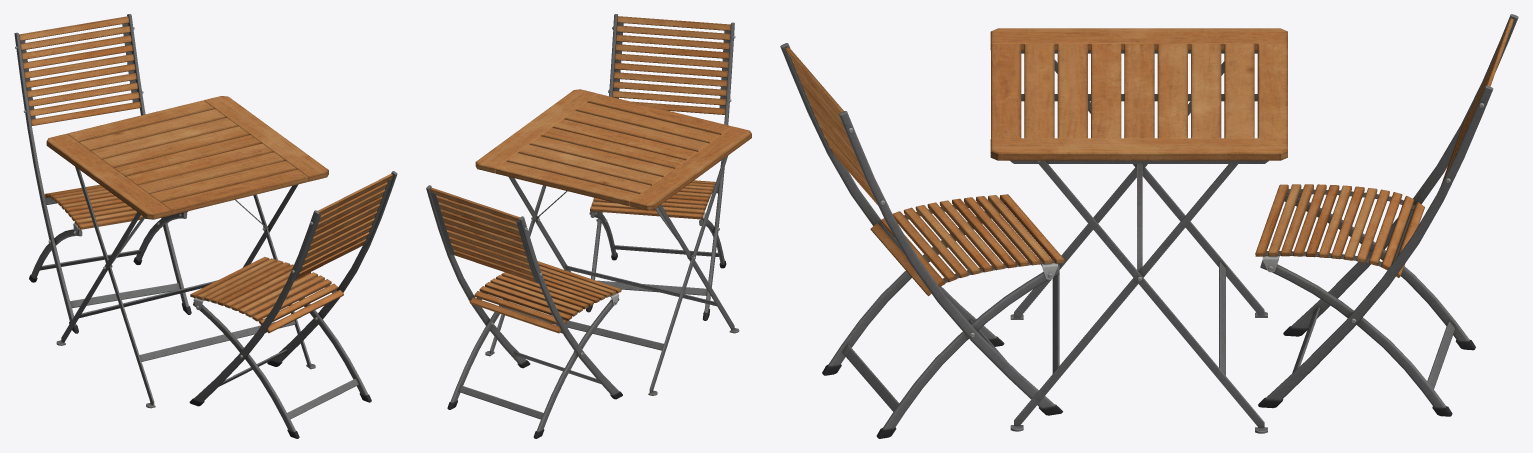
File: outdoor_table_chair_set_01.glb
The picture shows the model from 3 angles, left to right: view 1: azimuth 30°, elevation 25°; view 2: azimuth 150°, elevation 25°; view 3: azimuth 270°, elevation 25°; orthographic projection. The views are drawn at different scales.
Parts seen in each view (by area): view 1: outdoor_table_chair_set_01_table, outdoor_table_chair_set_01_chair_02, outdoor_table_chair_set_01_chair_01; view 2: outdoor_table_chair_set_01_table, outdoor_table_chair_set_01_chair_02, outdoor_table_chair_set_01_chair_01; view 3: outdoor_table_chair_set_01_table, outdoor_table_chair_set_01_chair_01, outdoor_table_chair_set_01_chair_02.
Part boxes in pixels (x1,y1,x2,y2): outdoor_table_chair_set_01_table: (46, 96, 328, 408); outdoor_table_chair_set_01_chair_02: (14, 14, 191, 333); outdoor_table_chair_set_01_chair_01: (189, 171, 397, 438); outdoor_table_chair_set_01_table: (475, 89, 751, 395); outdoor_table_chair_set_01_chair_02: (426, 185, 622, 438); outdoor_table_chair_set_01_chair_01: (586, 14, 735, 320); outdoor_table_chair_set_01_table: (990, 28, 1287, 433); outdoor_table_chair_set_01_chair_01: (780, 43, 1064, 438); outdoor_table_chair_set_01_chair_02: (1255, 14, 1518, 416).
Size of the model in its own units: 0.7417 by 0.8586 by 1.72.
2 materials, 2 textured.
